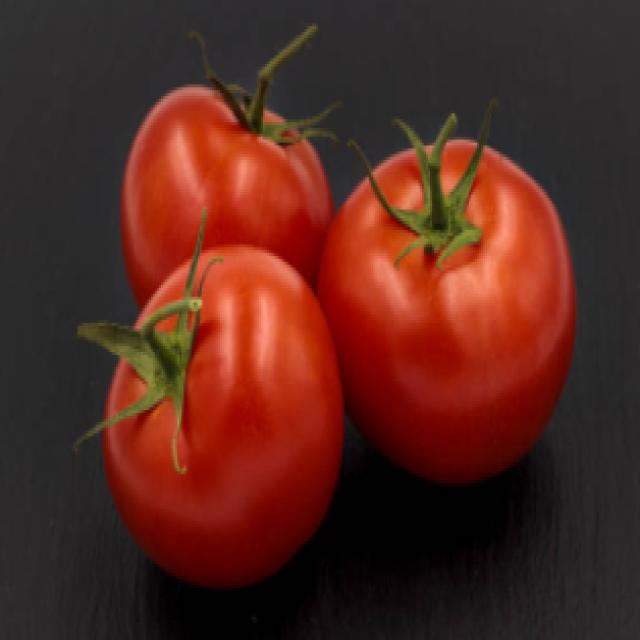Tomato: (335, 126, 571, 476), (103, 254, 345, 568)
